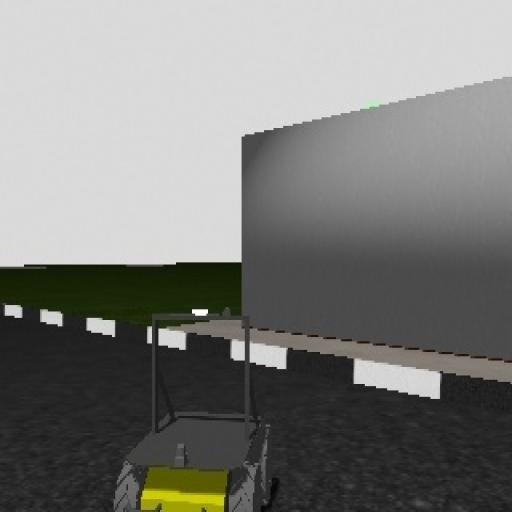huskya200: (94, 291, 304, 512)
